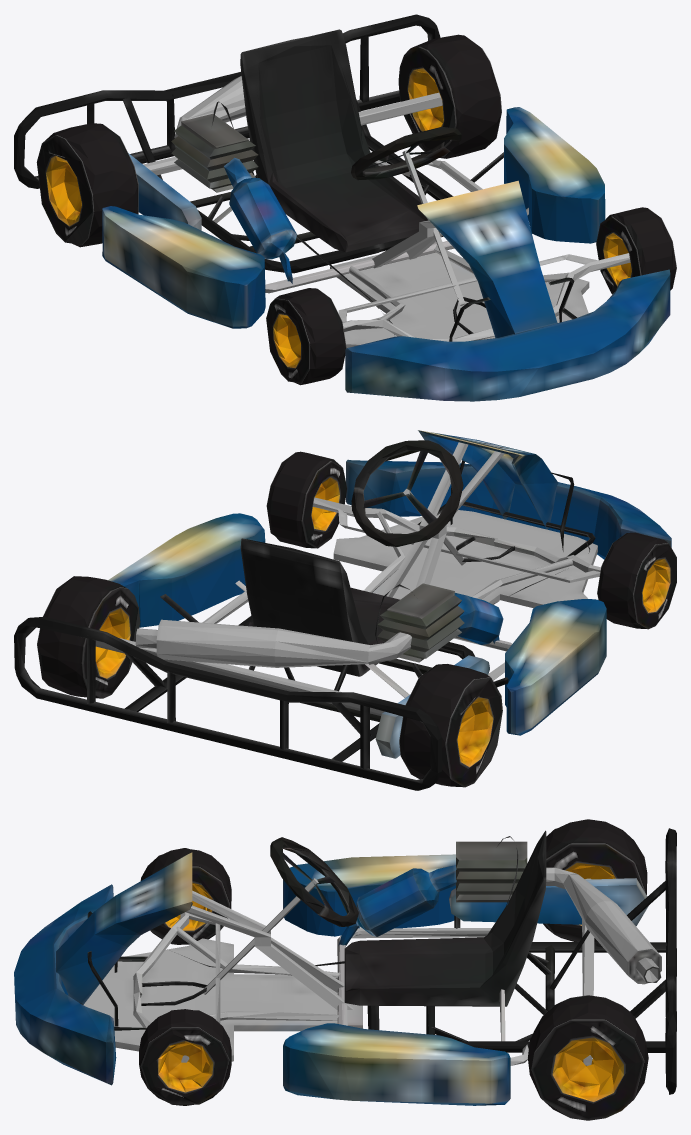
File: gokart_lo.glb
The picture shows the model from 3 angles, top to bottom: view 1: azimuth 30°, elevation 25°; view 2: azimuth 150°, elevation 25°; view 3: azimuth 270°, elevation 25°; orthographic projection.
Visible parts, largest first — view 1: BODY, W1, W0, W2, W3; view 2: BODY, W1, W0, W2, W3; view 3: BODY, W0, W3, W1, W2.
Part boxes in pixels (left/top/right/bottom): BODY: left=14, top=14, right=670, bottom=401; W1: left=36, top=123, right=138, bottom=247; W0: left=398, top=34, right=501, bottom=158; W2: left=266, top=288, right=346, bottom=385; W3: left=596, top=207, right=676, bottom=294; BODY: left=14, top=430, right=671, bottom=790; W1: left=399, top=664, right=502, bottom=787; W0: left=37, top=576, right=140, bottom=698; W2: left=597, top=532, right=676, bottom=629; W3: left=266, top=451, right=347, bottom=548; BODY: left=14, top=828, right=676, bottom=1105; W0: left=528, top=995, right=648, bottom=1120; W3: left=139, top=1009, right=231, bottom=1105; W1: left=543, top=819, right=647, bottom=941; W2: left=140, top=848, right=231, bottom=944.
Bounding box in the file's own units: 1.4 × 0.5644 × 1.9.
Materials: 2 (2 with a texture image).
